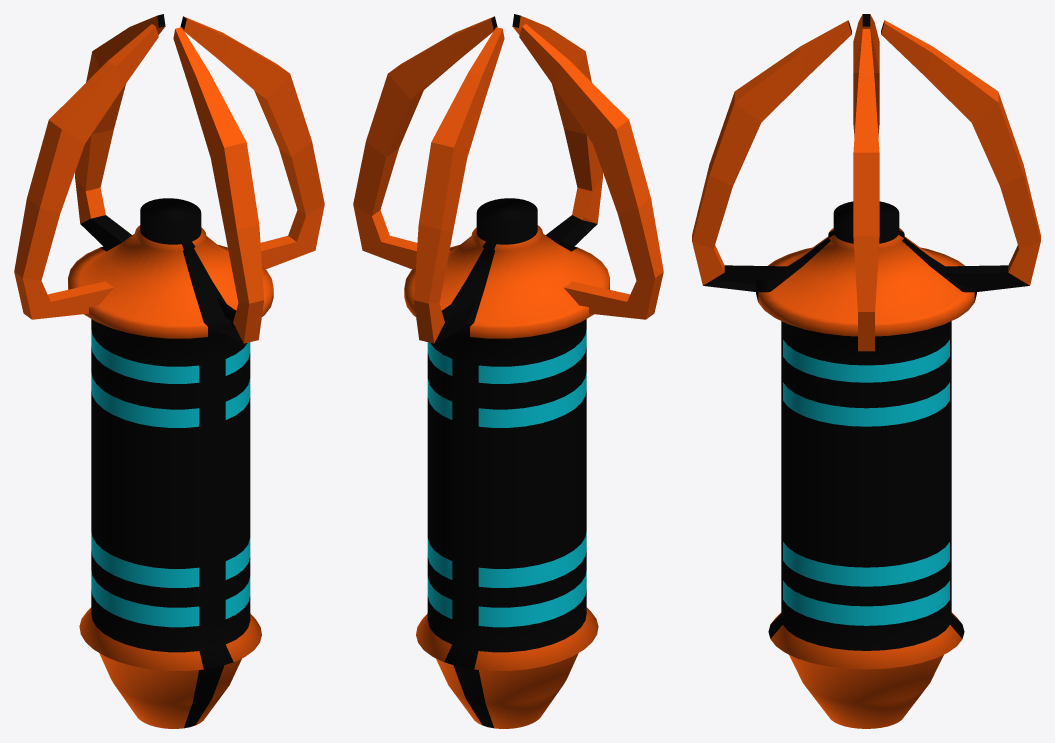
Rendered from Pointer.fbx.
3 renders of one model, left to right at view 1: azimuth 30°, elevation 25°; view 2: azimuth 150°, elevation 25°; view 3: azimuth 270°, elevation 25°, orthographic.
Parts seen in each view (by area): view 1: Cylinder; view 2: Cylinder; view 3: Cylinder.
Boxes of the visible parts, x1,y1,x2,y2 form: Cylinder: (14,14,324,728); Cylinder: (353,14,663,728); Cylinder: (692,14,1040,728).
Bounding box in the file's own units: 91.42 × 200 × 91.42.
